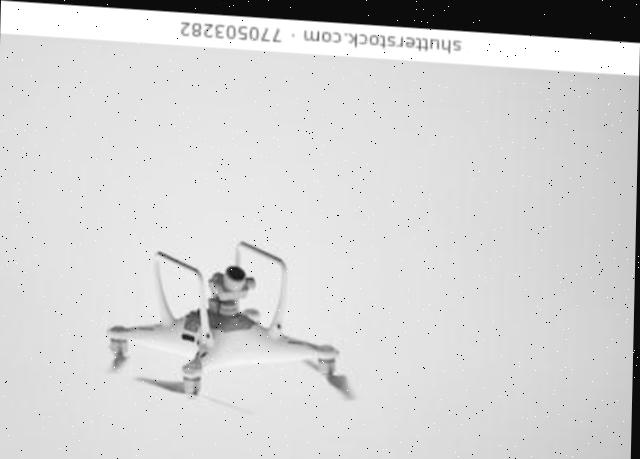drone: (67, 220, 384, 424)
